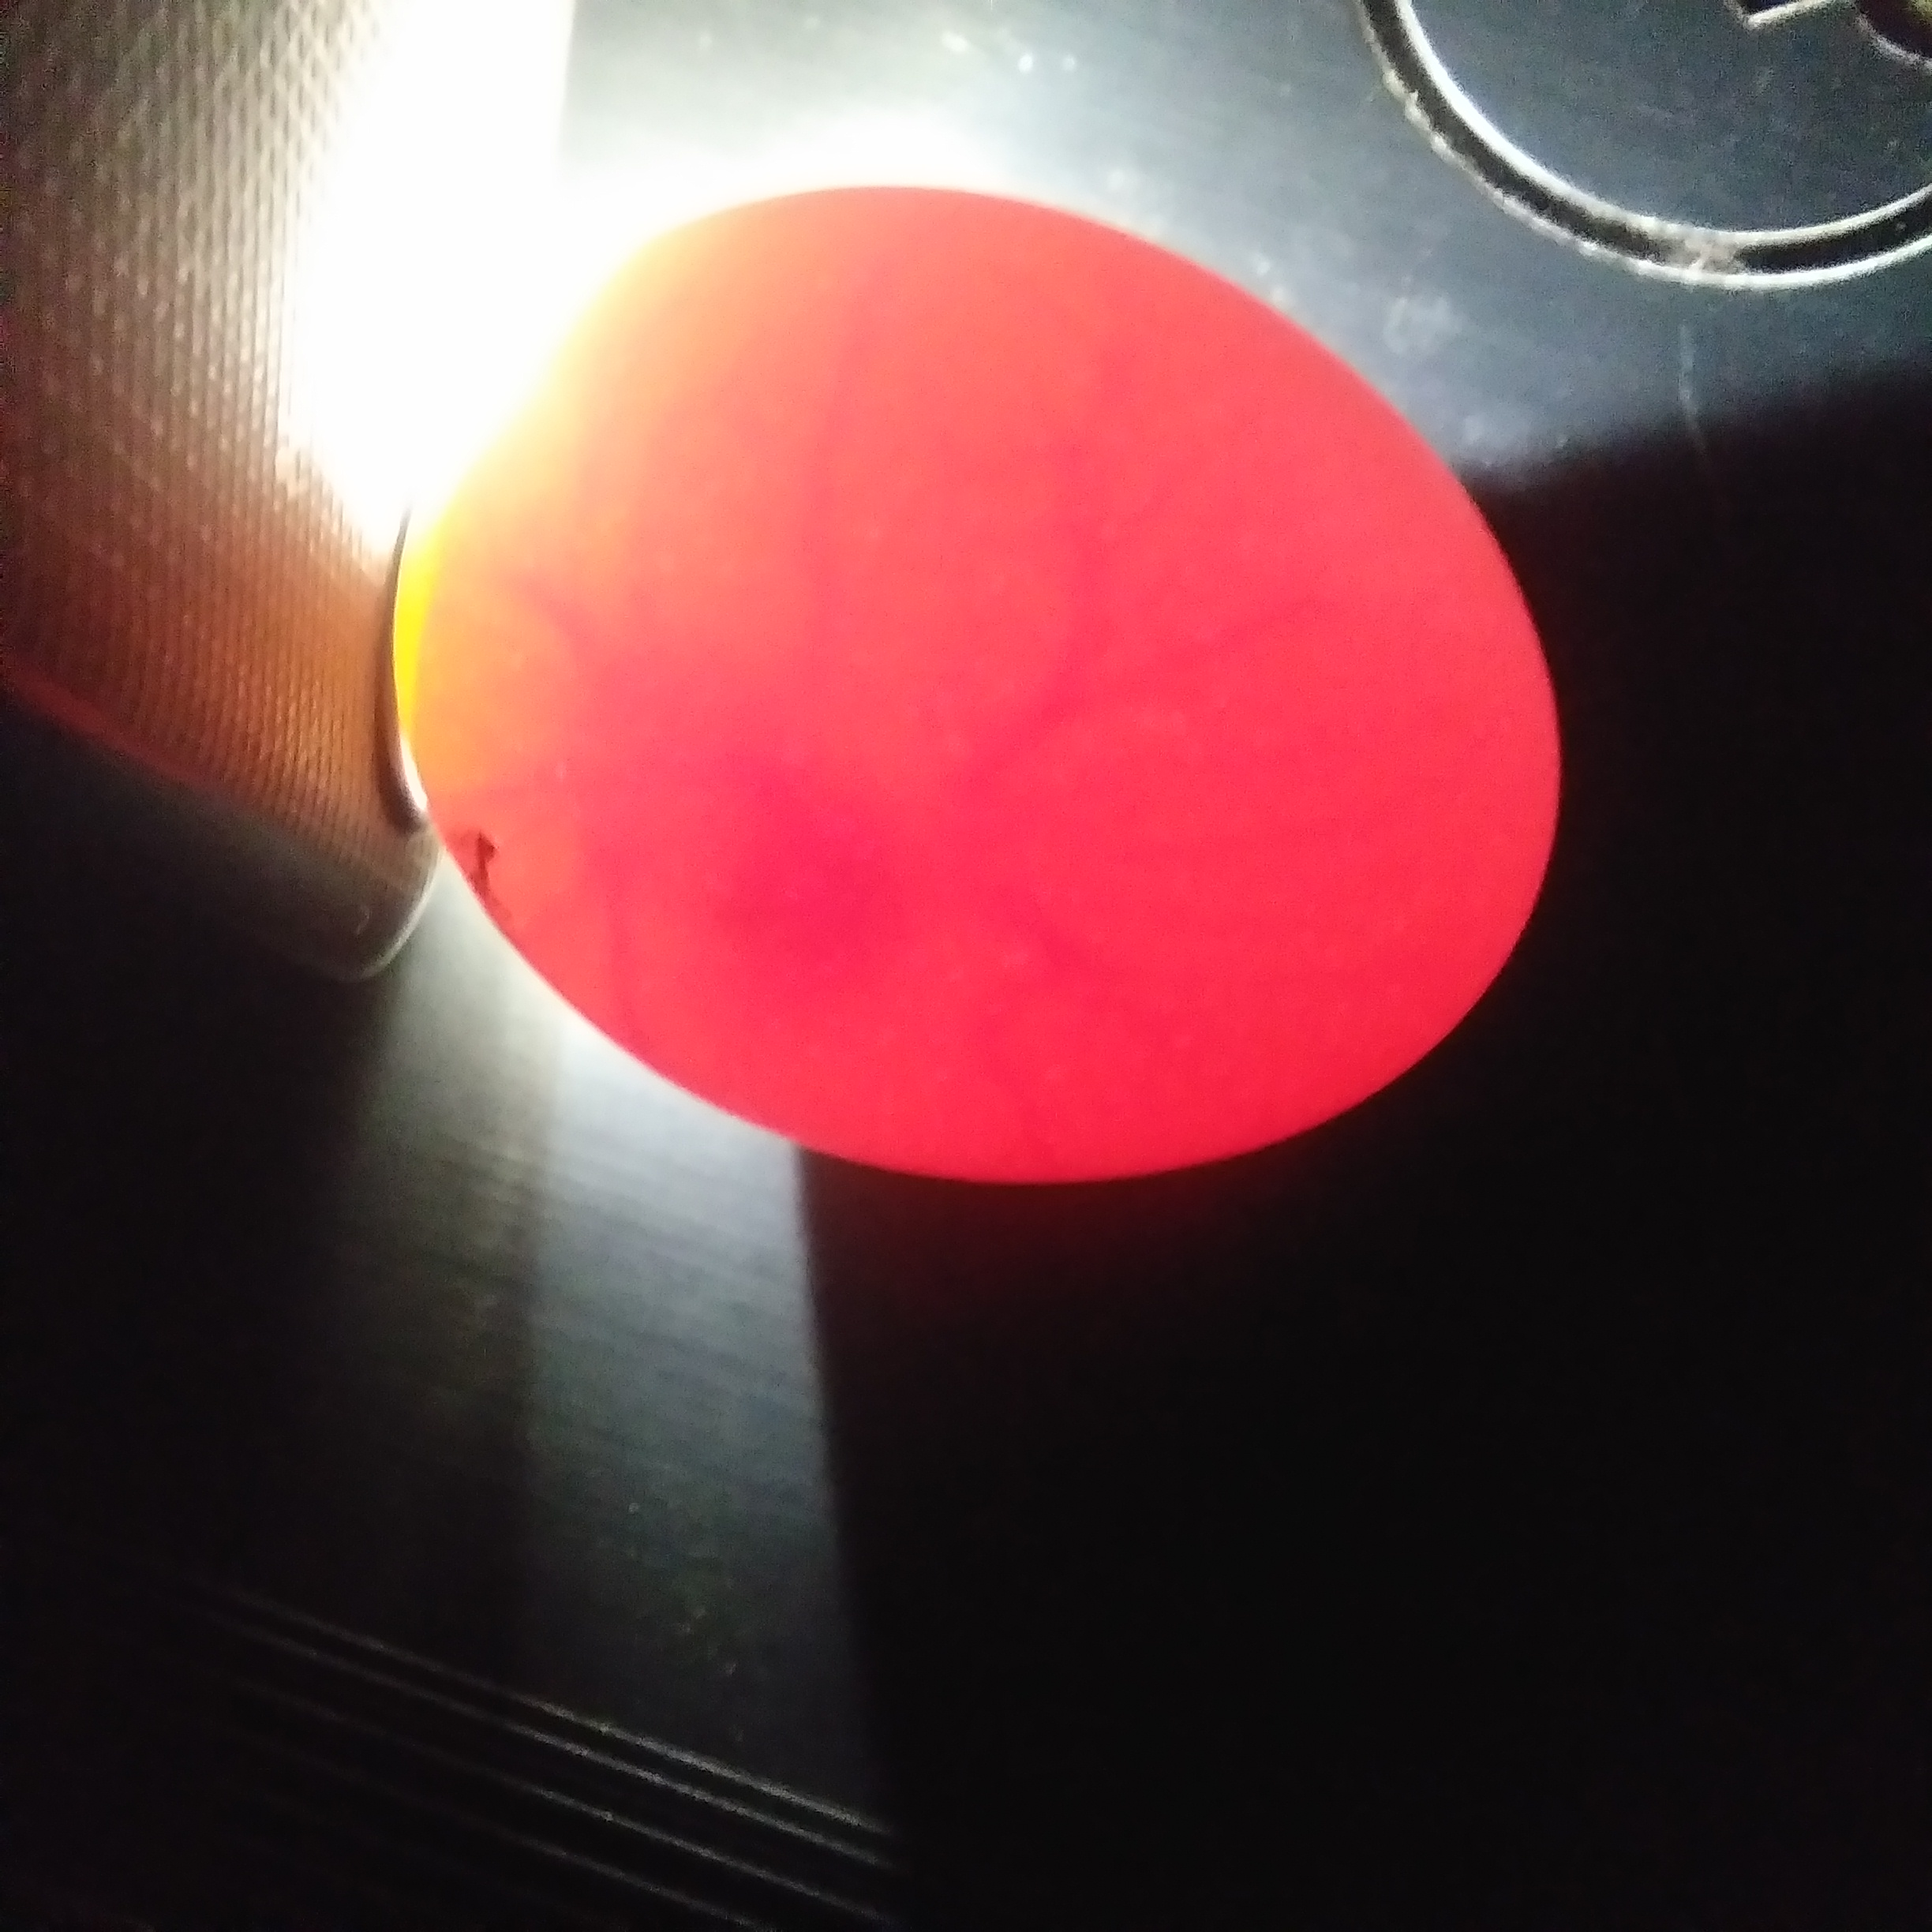bloodcell: (649, 340, 1141, 639), (957, 740, 1177, 1028), (439, 548, 600, 708)
embryo: (626, 688, 872, 947)
